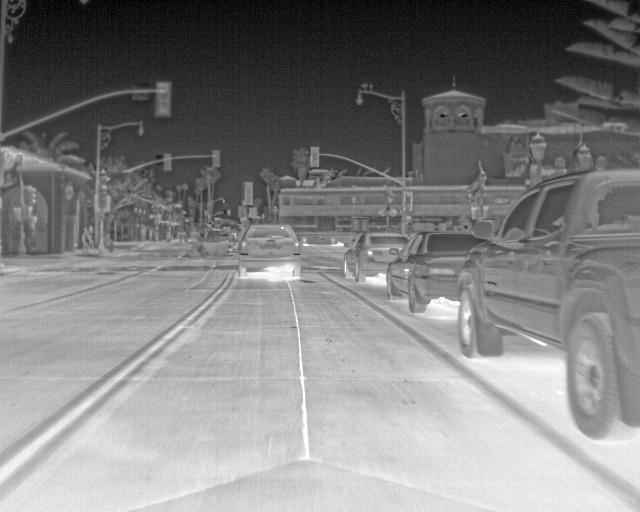bicycle: (456, 163, 639, 438), (386, 227, 486, 313), (237, 219, 300, 280), (341, 230, 407, 283)
empty: (78, 224, 90, 251), (85, 225, 97, 251)
